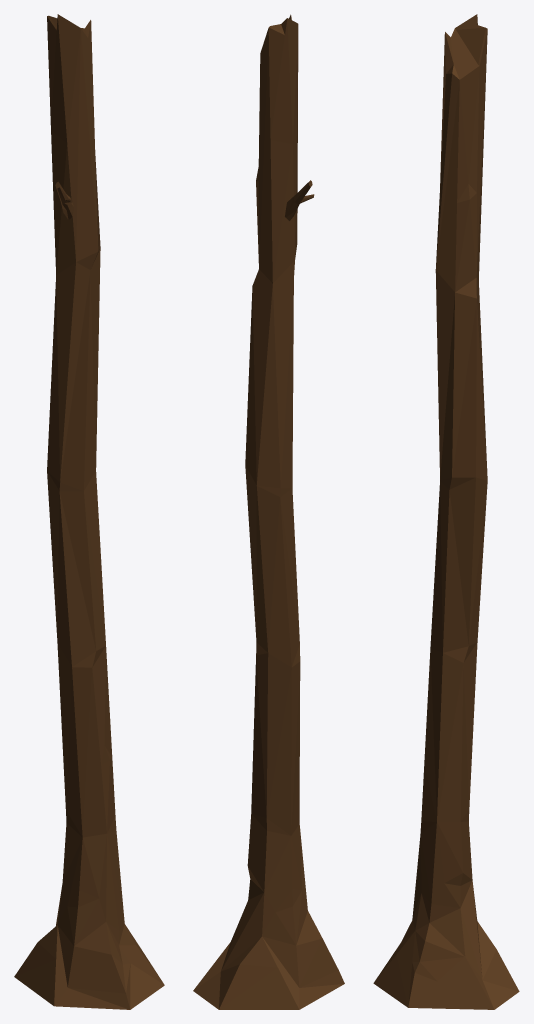
File: tree-birch-broken-a.gltf
The picture shows the model from 3 angles, left to right: view 1: azimuth 90°, elevation 25°; view 2: azimuth 150°, elevation 25°; view 3: azimuth 270°, elevation 25°; orthographic projection. The views are drawn at different scales.
Visible parts, largest first — view 1: tree-birch-broken-a; view 2: tree-birch-broken-a; view 3: tree-birch-broken-a.
Boxes of the visible parts, box(x1,y1,x2,y2) form: tree-birch-broken-a: box(14, 14, 164, 1009); tree-birch-broken-a: box(193, 14, 344, 1009); tree-birch-broken-a: box(373, 14, 519, 1009).
Bounding box in the file's own units: 0.00609 × 0.0524 × 0.00727.
